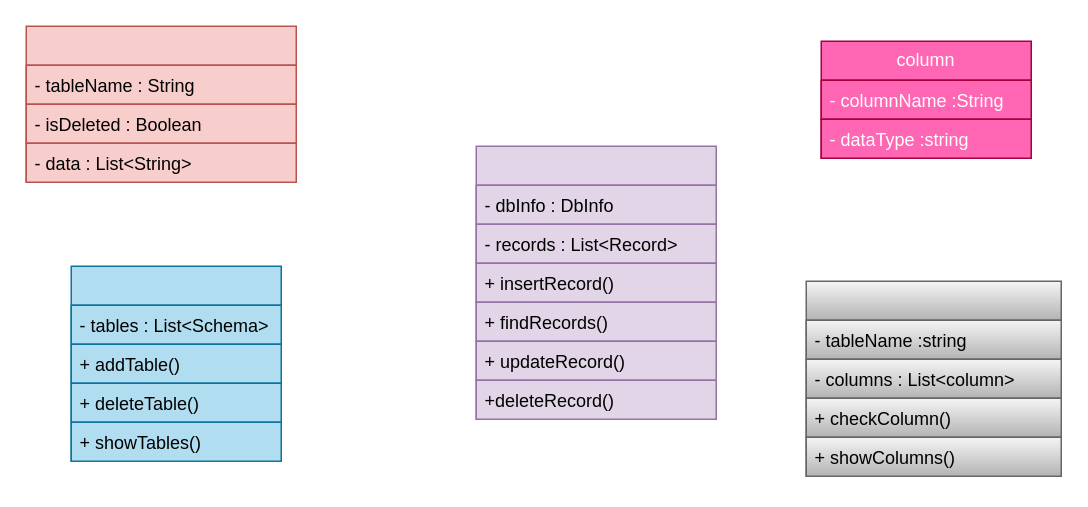
Image size: 1088x507. Some labels were removed from this diagram. Each missing label, with the box of its shape:
data base: (475, 145, 716, 419)
DbInfo: (70, 265, 281, 461)
Record: (25, 25, 296, 182)
Schema: (805, 280, 1061, 476)
